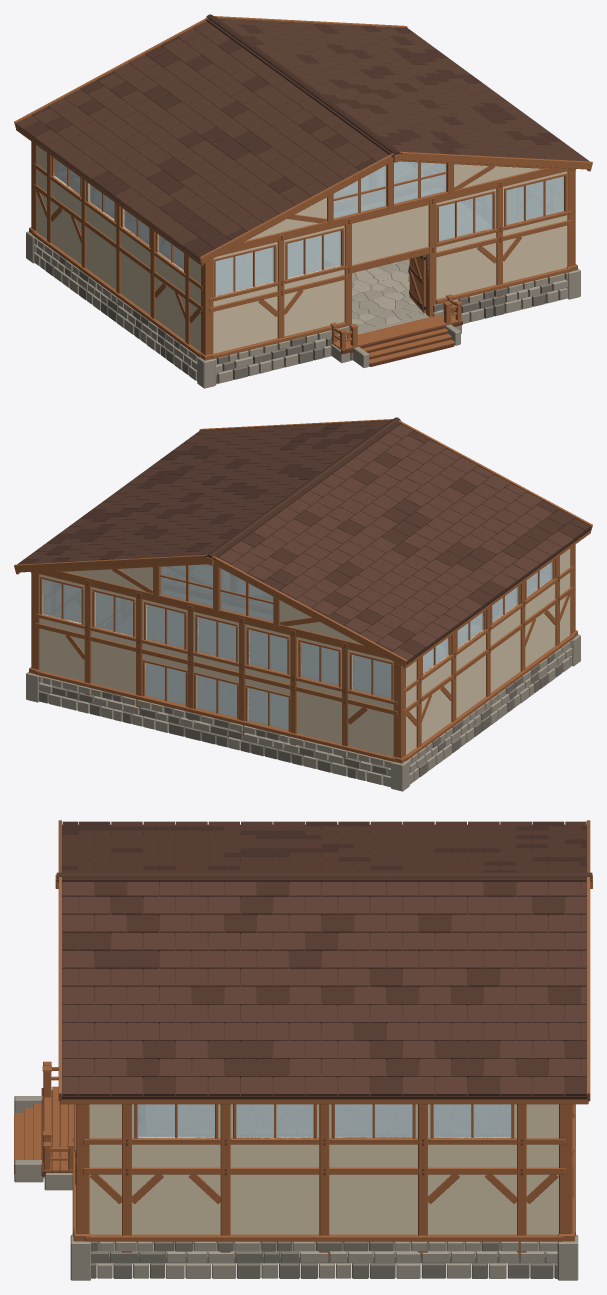
The model's file is Lodge_Building.fbx.
3 renders of one model, top to bottom at view 1: azimuth 30°, elevation 25°; view 2: azimuth 150°, elevation 25°; view 3: azimuth 270°, elevation 25°, orthographic. The views are drawn at different scales.
Parts seen in each view (by area): view 1: RoofTilesL, RoofTilesR, PlasterFront, TimberFront, PlasterLeft, RoofTilesL2, GlassFront, TimberLeft, RoofTilesR2, RoofTrim, BaseFront, GableFront (+18 smaller); view 2: RoofTilesL, RoofTilesR, TimberRear, GlassRear, PlasterRear, PlasterLeft, RoofTilesL2, TimberLeft, BaseRear, RoofTilesR2, RoofTrim, BaseDarkRear (+10 smaller); view 3: RoofTilesR, PlasterRight, RoofTilesR2, RoofTilesL, TimberRight, GlassRight, BaseRight, BaseDarkRight, RoofBaseR, RoofTilesL2, RoofTrim, RidgeCap (+7 smaller).
Boxes of the visible parts, bbox=[...] form: RoofTilesL: bbox=[16, 21, 388, 246]; RoofTilesR: bbox=[219, 18, 589, 161]; PlasterFront: bbox=[213, 171, 567, 361]; TimberFront: bbox=[209, 168, 571, 358]; PlasterLeft: bbox=[36, 145, 200, 351]; RoofTilesL2: bbox=[23, 37, 375, 258]; GlassFront: bbox=[215, 176, 563, 295]; TimberLeft: bbox=[32, 153, 202, 357]; RoofTilesR2: bbox=[239, 25, 562, 154]; RoofTrim: bbox=[14, 16, 592, 265]; BaseFront: bbox=[215, 273, 567, 383]; GableFront: bbox=[233, 160, 575, 247]; RoofTilesL: bbox=[218, 424, 573, 661]; RoofTilesR: bbox=[23, 421, 387, 563]; TimberRear: bbox=[35, 571, 397, 761]; GlassRear: bbox=[43, 579, 391, 730]; PlasterRear: bbox=[39, 574, 393, 766]; PlasterLeft: bbox=[406, 548, 570, 754]; RoofTilesL2: bbox=[241, 431, 590, 656]; TimberLeft: bbox=[404, 556, 574, 760]; BaseRear: bbox=[39, 676, 391, 787]; RoofTilesR2: bbox=[17, 424, 376, 564]; RoofTrim: bbox=[14, 419, 592, 668]; BaseDarkRear: bbox=[39, 686, 388, 778]; RoofTilesR: bbox=[62, 882, 586, 1095]; PlasterRight: bbox=[89, 1104, 558, 1256]; RoofTilesR2: bbox=[62, 882, 586, 1095]; RoofTilesL: bbox=[62, 821, 586, 872]; TimberRight: bbox=[83, 1104, 565, 1257]; GlassRight: bbox=[137, 1104, 511, 1137]; BaseRight: bbox=[97, 1241, 557, 1278]; BaseDarkRight: bbox=[91, 1241, 557, 1278]; RoofBaseR: bbox=[62, 882, 586, 1099]; RoofTilesL2: bbox=[62, 821, 586, 872]; RoofTrim: bbox=[55, 820, 592, 1104]; RidgeCap: bbox=[56, 872, 592, 882].
Size of the model in its own units: 91.59 by 43.4 by 82.13.
